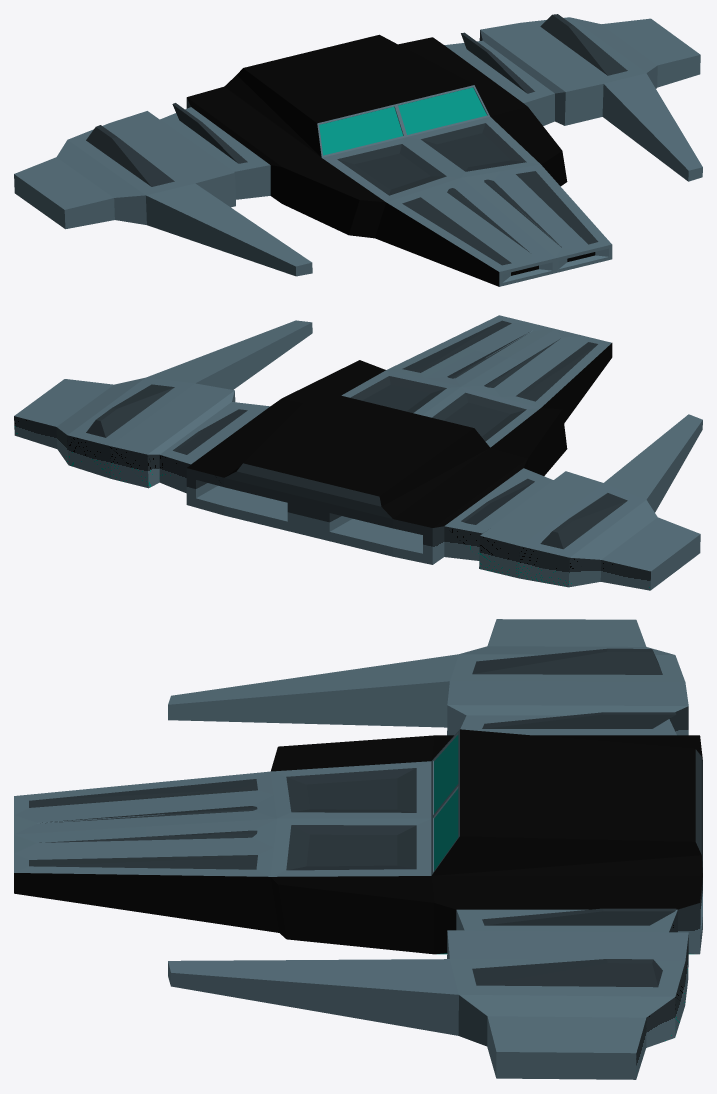
Rendered from ship.glb.
3 renders of one model, top to bottom at view 1: azimuth 30°, elevation 25°; view 2: azimuth 150°, elevation 25°; view 3: azimuth 270°, elevation 25°, orthographic. The views are drawn at different scales.
Visible parts, largest first — view 1: Cube; view 2: Cube; view 3: Cube.
Part boxes in pixels (bbox=[...]): Cube: bbox=[14, 14, 702, 286]; Cube: bbox=[14, 315, 702, 590]; Cube: bbox=[14, 619, 702, 1079].
Size of the model in its own units: 7.55 by 0.7473 by 5.07.
Materials: 1 (1 with a texture image).
